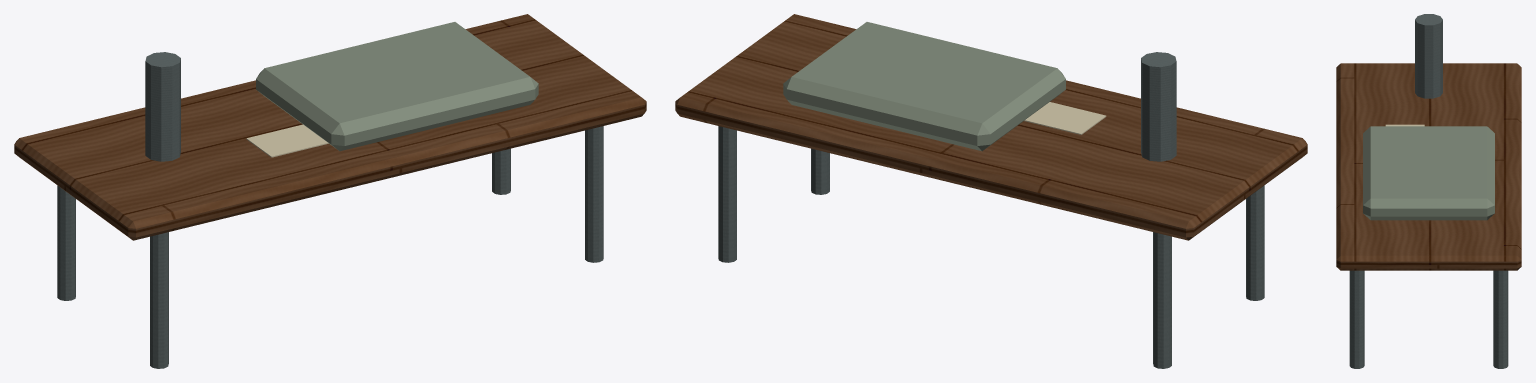
File: unattended-bench.glb
The picture shows the model from 3 angles, left to right: view 1: azimuth 30°, elevation 25°; view 2: azimuth 150°, elevation 25°; view 3: azimuth 270°, elevation 25°; orthographic projection. The views are drawn at different scales.
Visible parts, largest first — view 1: Bench, Folded canvas, Water bottle, Bench legs, Bench legs.002, Bench legs.001, Old note, Bench legs.003; view 2: Bench, Folded canvas, Water bottle, Bench legs.001, Bench legs.003, Bench legs, Old note, Bench legs.002; view 3: Bench, Folded canvas, Water bottle, Bench legs.002, Bench legs.003.
Boxes of the visible parts, x1,y1,x2,y2 form: Bench: (14, 14, 646, 240); Folded canvas: (256, 22, 538, 151); Water bottle: (145, 52, 180, 161); Bench legs: (150, 232, 168, 368); Bench legs.002: (585, 126, 603, 262); Bench legs.001: (57, 185, 75, 300); Old note: (246, 124, 328, 157); Bench legs.003: (492, 148, 510, 194); Bench: (675, 14, 1307, 240); Folded canvas: (783, 22, 1065, 151); Water bottle: (1141, 52, 1176, 161); Bench legs.001: (1153, 232, 1171, 368); Bench legs.003: (718, 126, 736, 262); Bench legs: (1246, 185, 1264, 300); Old note: (1024, 102, 1106, 134); Bench legs.002: (811, 148, 829, 194); Bench: (1336, 63, 1521, 270); Folded canvas: (1363, 126, 1494, 220); Water bottle: (1415, 14, 1442, 98); Bench legs.002: (1349, 270, 1364, 368); Bench legs.003: (1493, 270, 1508, 368).
Bounding box in the file's own units: 1.55 × 0.74 × 0.62.
4 materials, 2 textured.
